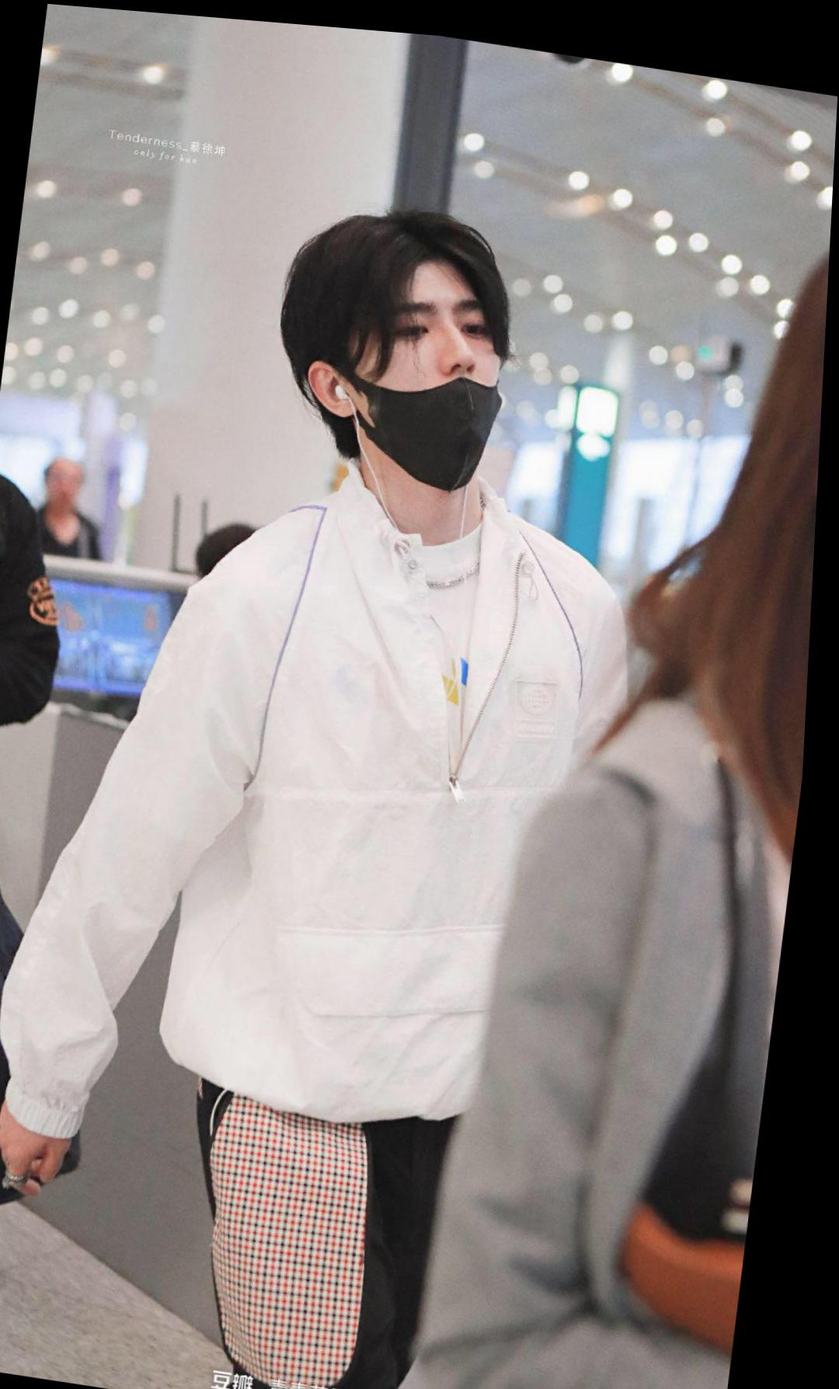WRONG: (357, 264, 517, 489)
